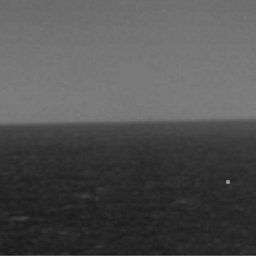Target: (223, 178, 232, 185)
